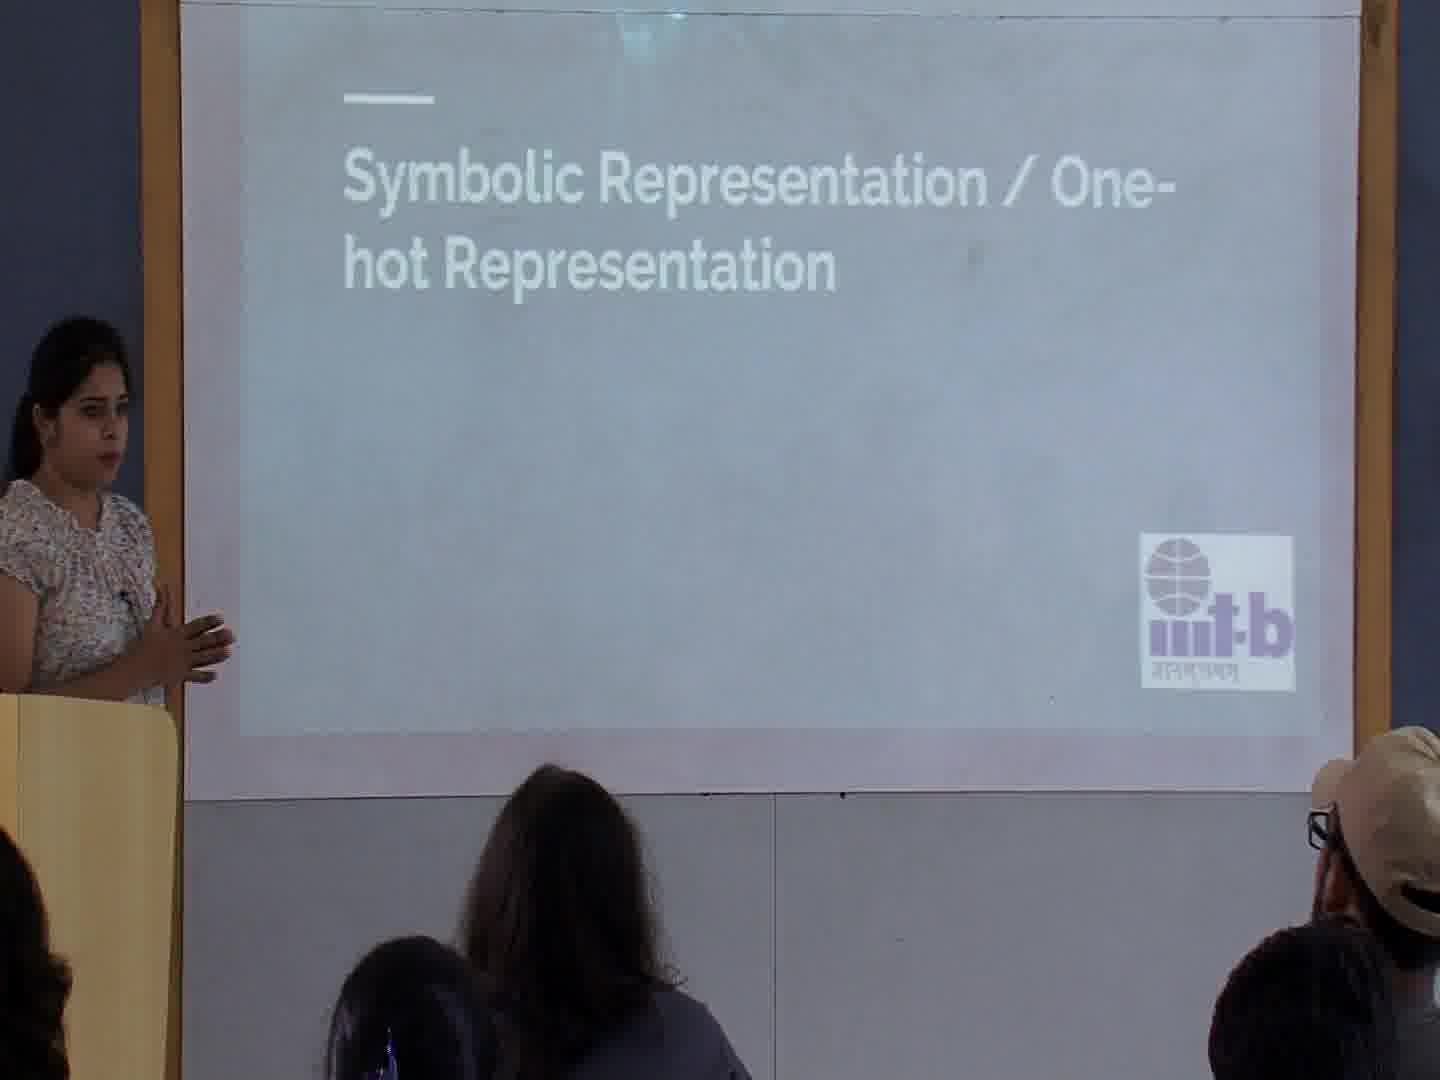slide: (242, 1, 1318, 734)
